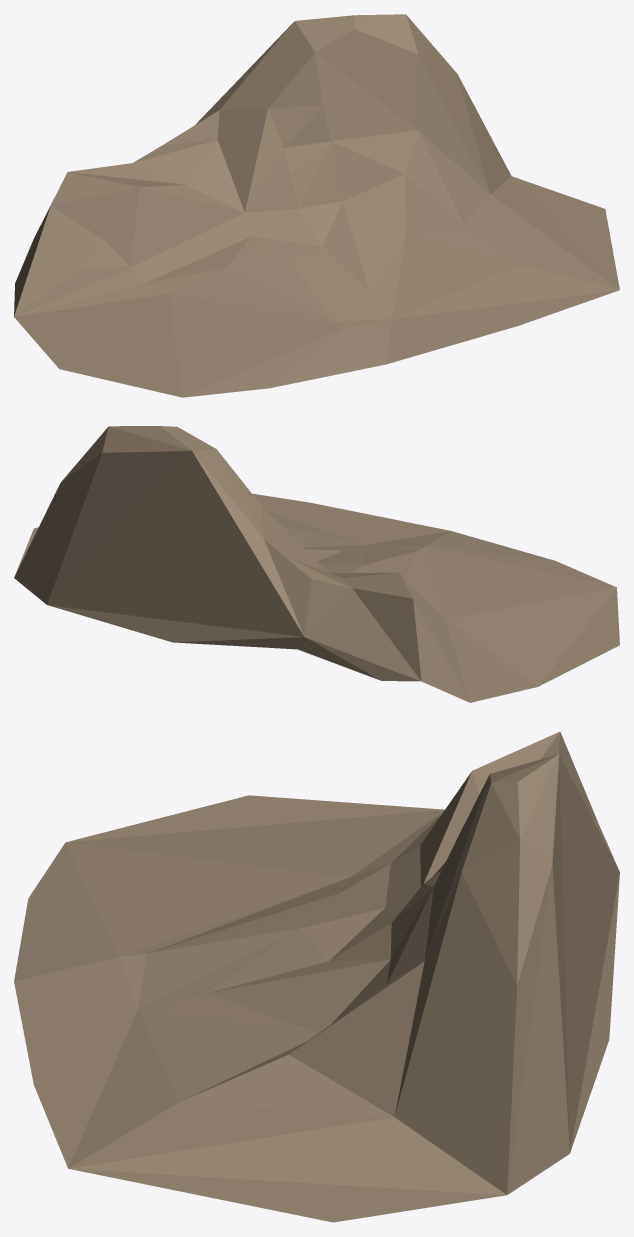
File: SM_Env_GroundMound_Edge_03.fbx
3 views of the same model, one above another, from view 1: azimuth 30°, elevation 25°; view 2: azimuth 150°, elevation 25°; view 3: azimuth 270°, elevation 25° (orthographic). The views are drawn at different scales.
Parts seen in each view (by area): view 1: SM_Env_GroundMound_Edge_03; view 2: SM_Env_GroundMound_Edge_03; view 3: SM_Env_GroundMound_Edge_03.
Part boxes in pixels (bbox=[...]): SM_Env_GroundMound_Edge_03: bbox=[14, 14, 619, 397]; SM_Env_GroundMound_Edge_03: bbox=[14, 426, 619, 702]; SM_Env_GroundMound_Edge_03: bbox=[14, 731, 619, 1222].
Bounding box in the file's own units: 4.03 × 1.32 × 2.42.
